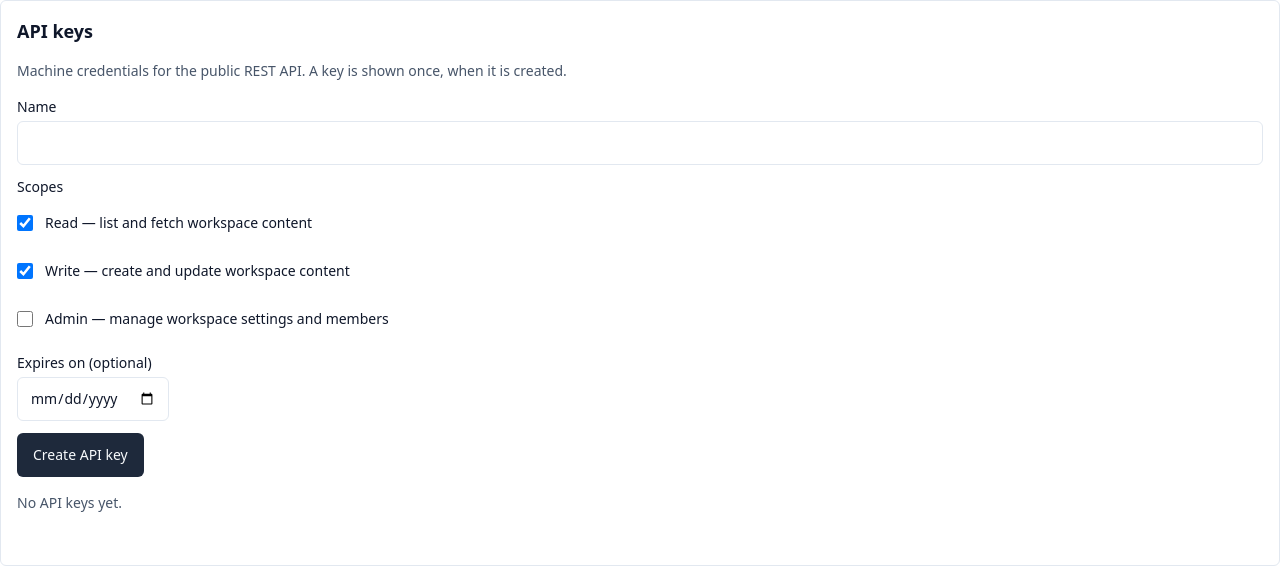
it: ApiKeys › reports a rejected create without pretending a key exists
Check: the text "No API keys yet." is shown, box [17, 493, 122, 512]
In the field labelled "Name": x=640, y=143 [17, 121, 1263, 165], type "CI deploy"
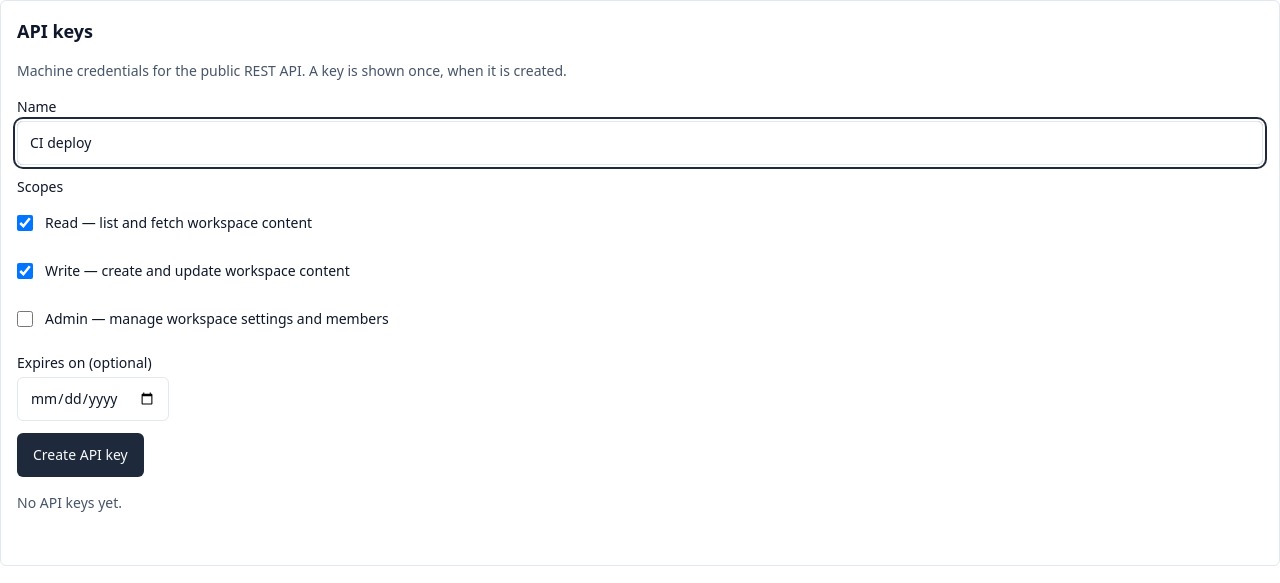
Click the button "Create API key": x=80, y=455 [17, 433, 144, 477]
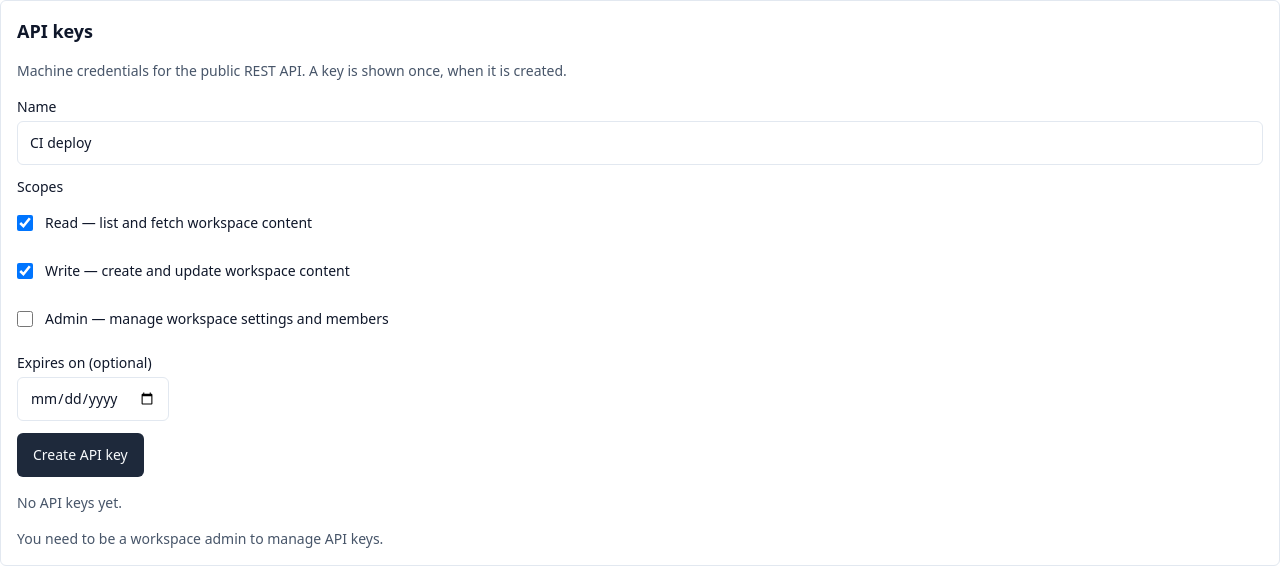
Check: the text "You need to be a workspace admin to manage API keys." is shown, box [17, 529, 383, 548]
